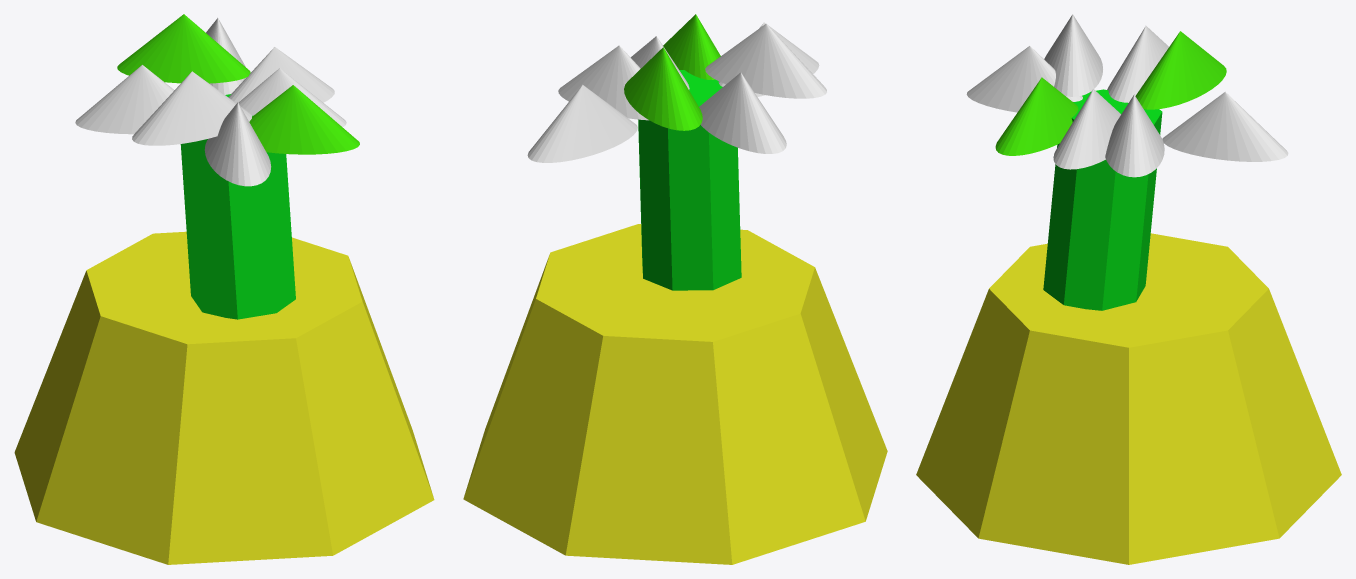
File: experiment .glb
The picture shows the model from 3 angles, left to right: view 1: azimuth 30°, elevation 25°; view 2: azimuth 150°, elevation 25°; view 3: azimuth 270°, elevation 25°; orthographic projection. The views are drawn at different scales.
Parts seen in each view (by area): view 1: Cylinder, Cylinder.001, Cone.003, Cone.004, Cone.001, Cone.005, Cone.009, Cone, Cone.002, Cone.007; view 2: Cylinder, Cylinder.001, Cone.001, Cone.007, Cone.005, Cone.003, Cone, Cone.004, Cone.002, Cone.009; view 3: Cylinder, Cylinder.001, Cone.007, Cone.003, Cone.004, Cone, Cone.009, Cone.002, Cone.001, Cone.005.
Part boxes in pixels (x1,y1,x2,y2): Cylinder: [14, 231, 434, 564]; Cylinder.001: [180, 94, 295, 319]; Cone.003: [117, 14, 250, 83]; Cone.004: [249, 85, 359, 154]; Cone.001: [132, 71, 251, 145]; Cone.005: [75, 65, 174, 134]; Cone.009: [204, 102, 271, 186]; Cone: [228, 47, 334, 103]; Cone.002: [238, 68, 346, 127]; Cone.007: [206, 18, 246, 94]; Cylinder: [463, 224, 887, 564]; Cylinder.001: [638, 70, 741, 290]; Cone.001: [705, 23, 826, 98]; Cone.007: [527, 85, 637, 162]; Cone.005: [699, 72, 786, 153]; Cone.003: [624, 47, 702, 130]; Cone: [558, 45, 648, 120]; Cone.004: [663, 14, 720, 79]; Cone.002: [631, 36, 689, 89]; Cone.009: [718, 22, 819, 96]; Cylinder: [916, 233, 1341, 564]; Cylinder.001: [1043, 89, 1162, 310]; Cone.007: [1162, 92, 1288, 161]; Cone.003: [1135, 31, 1226, 109]; Cone.004: [995, 77, 1078, 155]; Cone: [1105, 94, 1164, 177]; Cone.009: [966, 46, 1082, 112]; Cone.002: [1053, 89, 1120, 169]; Cone.001: [1044, 14, 1102, 96]; Cone.005: [1107, 26, 1168, 102].
Bounding box in the file's own units: 5.71 × 6.47 × 5.71.
